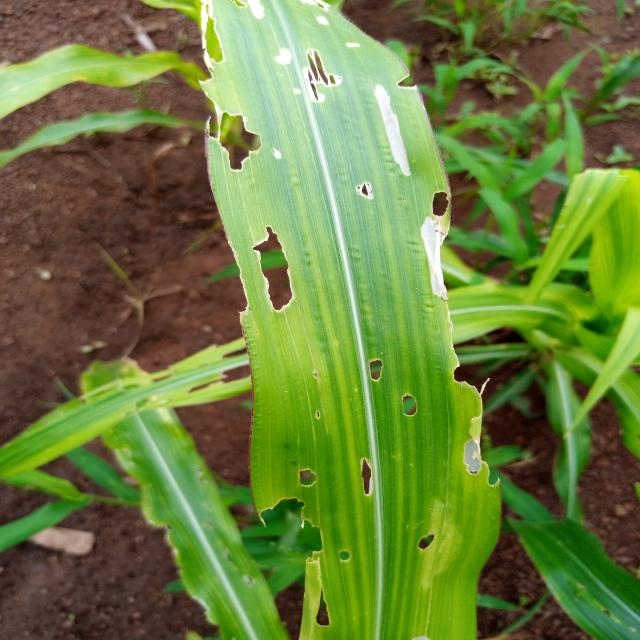fall-armyworm-larval-damage: (268, 464, 386, 619), (438, 356, 514, 496), (232, 236, 324, 319), (354, 340, 436, 432), (188, 99, 268, 191), (413, 181, 474, 296), (188, 8, 242, 76), (272, 48, 332, 98), (417, 518, 459, 568), (398, 65, 430, 103), (341, 159, 362, 199)
